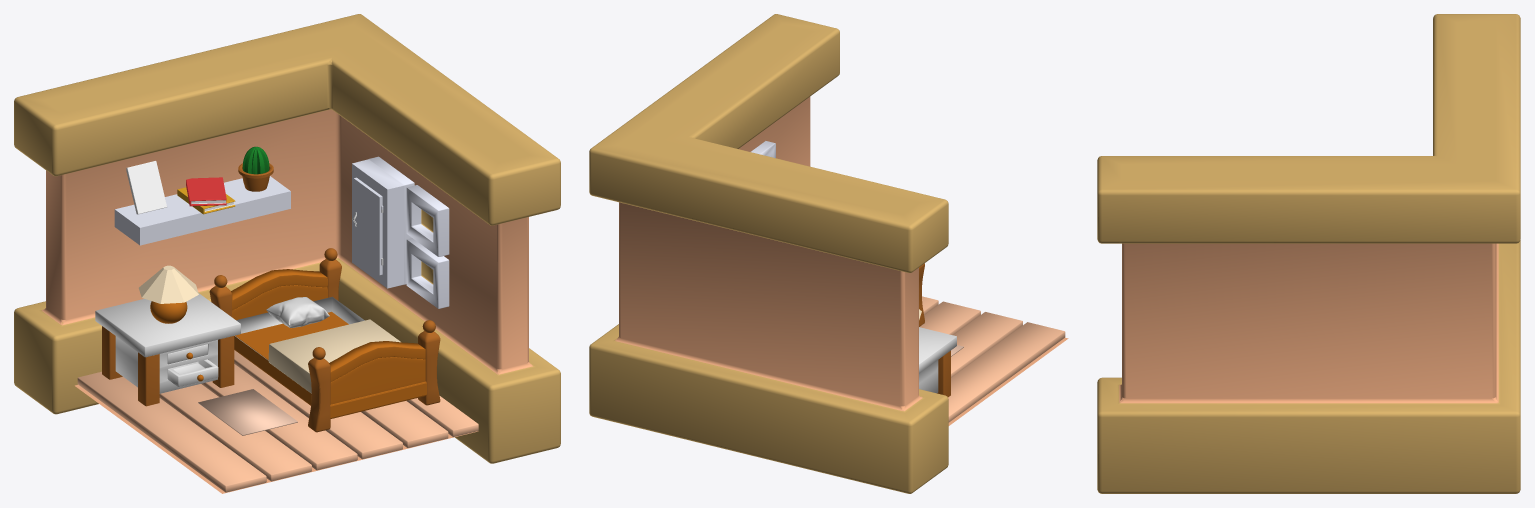
The model's file is bedroom.glb.
The picture shows the model from 3 angles, left to right: view 1: azimuth 30°, elevation 25°; view 2: azimuth 150°, elevation 25°; view 3: azimuth 270°, elevation 25°; orthographic projection. The views are drawn at different scales.
Visible parts, largest first — view 1: Cube, Plane.001, Cube.001, Plane.008, Plane.003, Cube.002, Plane.004, Plane.002, Plane.006, Plane.009, Plane.011, Cube.005 (+7 smaller); view 2: Cube, Plane.001, Plane.008, Plane.009; view 3: Cube.
Part boxes in pixels (x1=…): Cube: x1=14, y1=14, x2=560, y2=463; Plane.001: x1=77, y1=350, x2=478, y2=492; Cube.001: x1=352, y1=156, x2=449, y2=308; Plane.008: x1=95, y1=293, x2=240, y2=393; Plane.003: x1=231, y1=269, x2=425, y2=404; Cube.002: x1=114, y1=176, x2=290, y2=245; Plane.004: x1=209, y1=248, x2=440, y2=432; Plane.002: x1=234, y1=311, x2=426, y2=418; Plane.006: x1=268, y1=319, x2=400, y2=393; Plane.009: x1=102, y1=326, x2=234, y2=406; Plane.011: x1=198, y1=389, x2=297, y2=435; Cube.005: x1=353, y1=177, x2=382, y2=274; Cube: x1=589, y1=14, x2=948, y2=493; Plane.001: x1=919, y1=296, x2=1065, y2=422; Plane.008: x1=919, y1=327, x2=956, y2=393; Plane.009: x1=937, y1=350, x2=950, y2=397; Cube: x1=1097, y1=14, x2=1520, y2=493.
Bounding box in the file's own units: 2.52 × 2 × 2.52.
